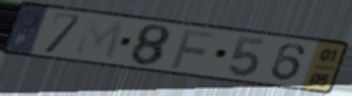5: (227, 34, 270, 78)
6: (270, 42, 306, 83)
7: (43, 11, 84, 56)
8: (127, 22, 174, 68)
F: (168, 27, 221, 71)
M: (71, 15, 127, 63)
